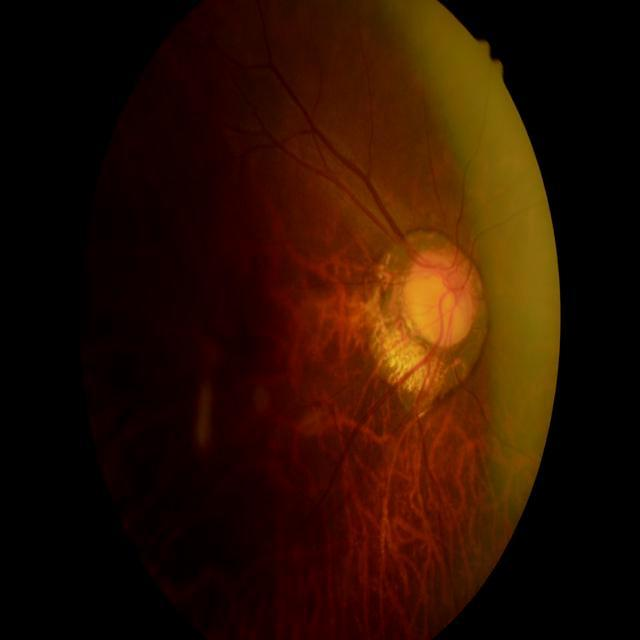cup: (416, 246, 472, 366)
disk: (364, 226, 492, 401)
